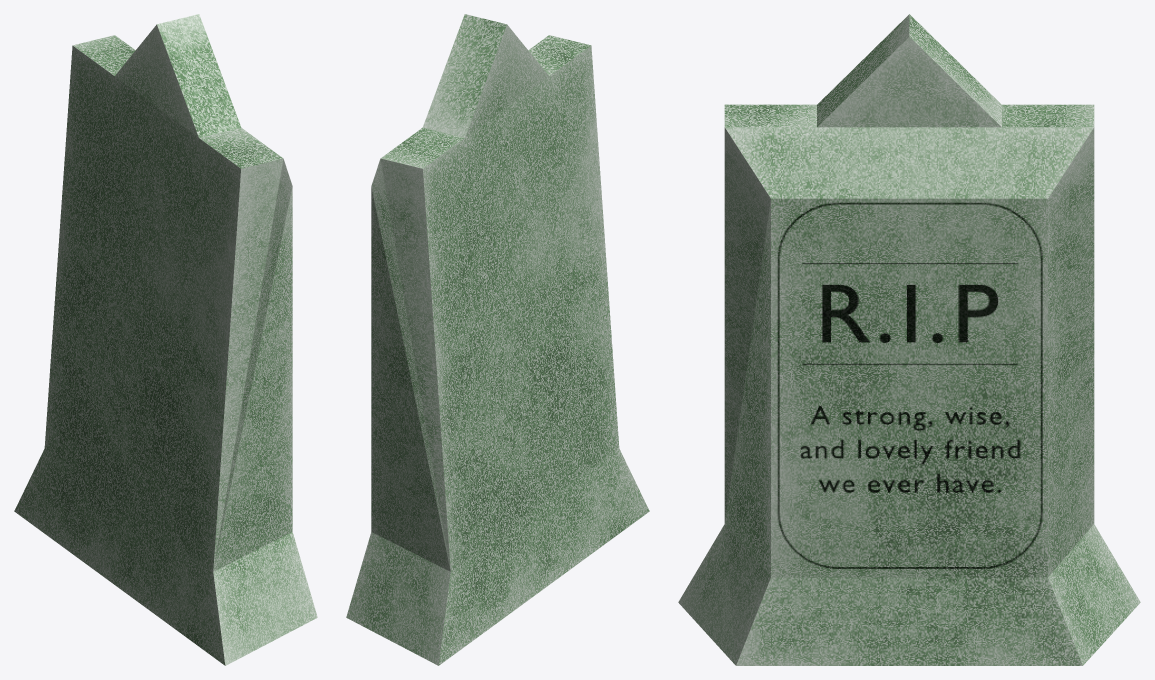
The model's file is Tombstone 3.obj.
3 views of the same model, side by side, from view 1: azimuth 30°, elevation 25°; view 2: azimuth 150°, elevation 25°; view 3: azimuth 270°, elevation 25° (orthographic). The views are drawn at different scales.
Parts seen in each view (by area): view 1: Cube.002; view 2: Cube.002; view 3: Cube.002.
Boxes of the visible parts, left/top/right/bottom form: Cube.002: left=14, top=14, right=317, bottom=665; Cube.002: left=346, top=14, right=649, bottom=665; Cube.002: left=678, top=14, right=1140, bottom=665.
Bounding box in the file's own units: 0.8138 × 3.63 × 2.5.
1 material, 1 textured.
